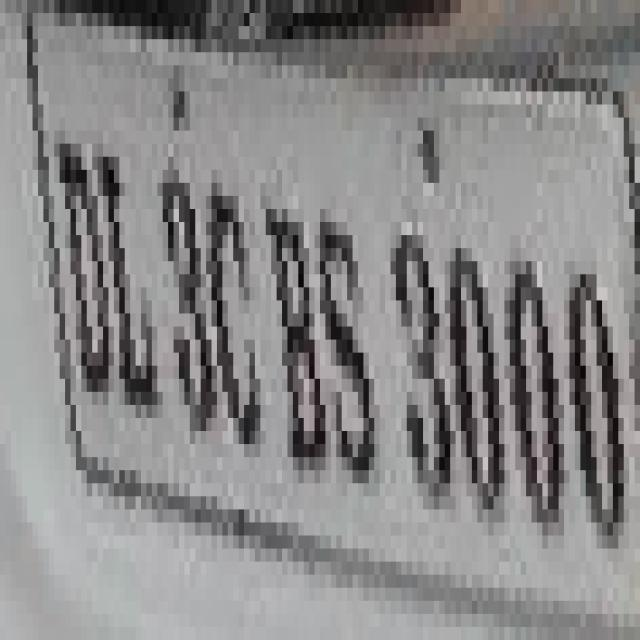license_plate: (5, 65, 602, 562)
